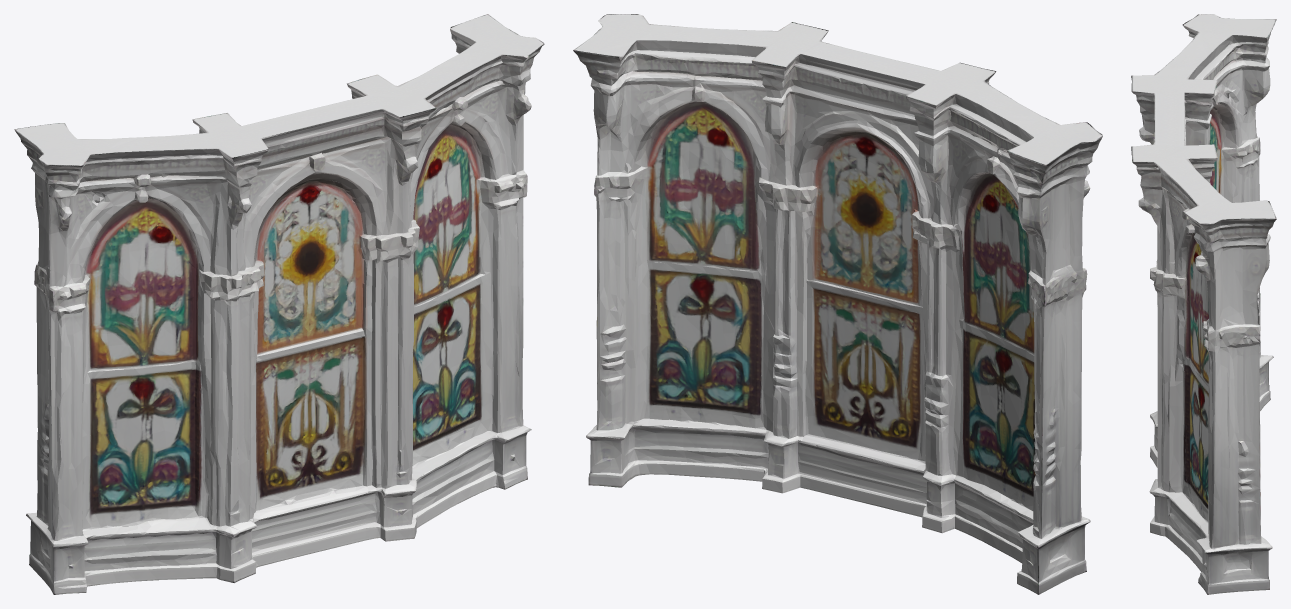
3 renders of one model, left to right at view 1: azimuth 30°, elevation 25°; view 2: azimuth 150°, elevation 25°; view 3: azimuth 270°, elevation 25°, orthographic. The views are drawn at different scales.
Parts seen in each view (by area): view 1: world; view 2: world; view 3: world.
Boxes of the visible parts, <box> form: world: <box>14,14,544,594</box>; world: <box>573,14,1102,594</box>; world: <box>1131,14,1276,594</box>.
Size of the model in its own units: 1 by 0.837 by 0.2936.
1 material, 1 textured.
